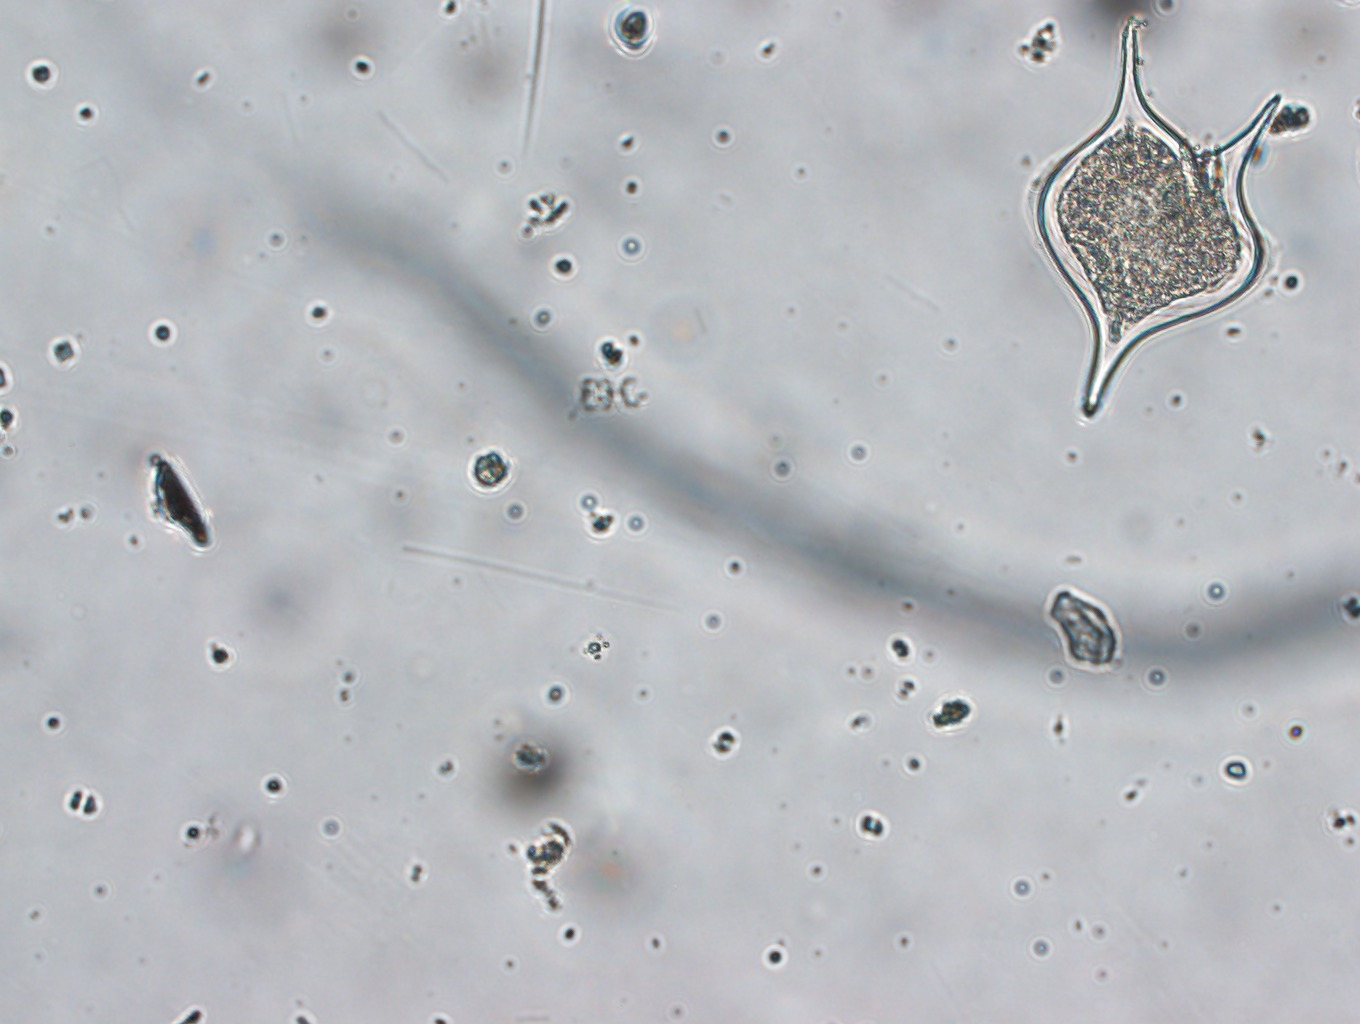protoperidinium: (1007, 16, 1287, 427)
